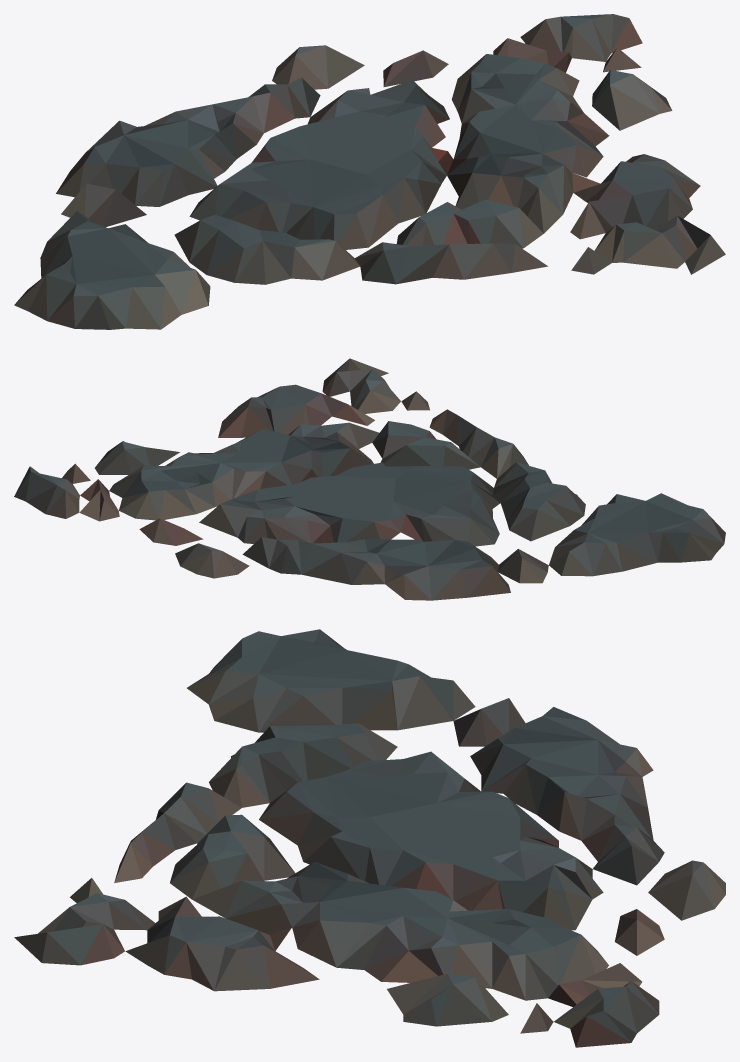
Rendered from Volcanic_F.fbx.
The picture shows the model from 3 angles, top to bottom: view 1: azimuth 30°, elevation 25°; view 2: azimuth 150°, elevation 25°; view 3: azimuth 270°, elevation 25°; orthographic projection. The views are drawn at different scales.
Parts seen in each view (by area): view 1: Volcanic_F; view 2: Volcanic_F; view 3: Volcanic_F.
Boxes of the visible parts, left/top/right/bottom form: Volcanic_F: left=14, top=14, right=725, bottom=329; Volcanic_F: left=14, top=358, right=725, bottom=600; Volcanic_F: left=14, top=629, right=725, bottom=1047.
Bounding box in the file's own units: 8650 × 282 × 6400.
